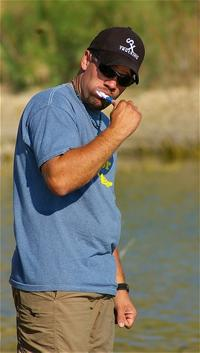person: (10, 28, 146, 353)
